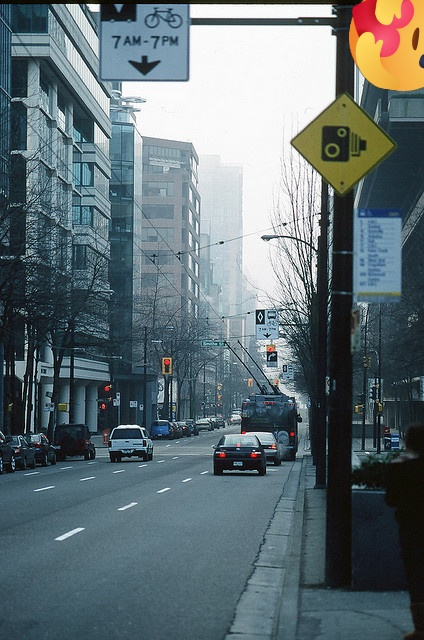care: (349, 0, 424, 91)
